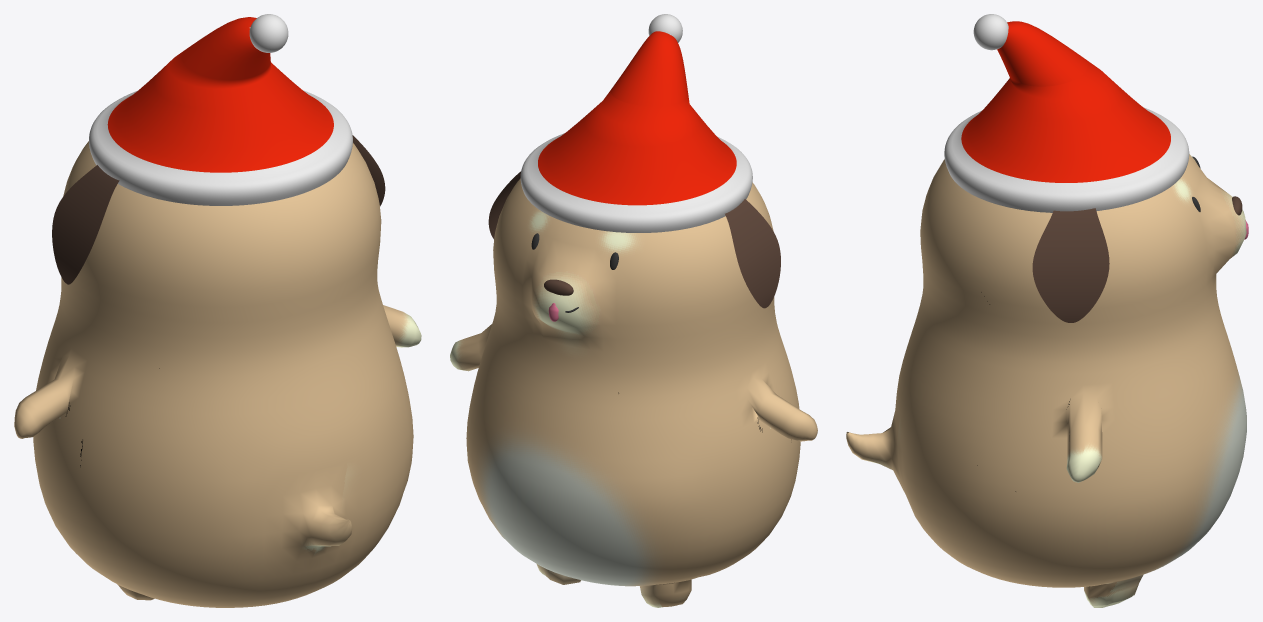
Rendered from dog.gltf.
The picture shows the model from 3 angles, left to right: view 1: azimuth 30°, elevation 25°; view 2: azimuth 150°, elevation 25°; view 3: azimuth 270°, elevation 25°; orthographic projection. The views are drawn at different scales.
Parts seen in each view (by area): view 1: Sphere, Circle, Plane.003, Circle.001, Sphere.001, Plane.002; view 2: Sphere, Circle, Circle.001, Plane.003, Sphere.001, Plane.002; view 3: Sphere, Circle, Plane.002, Circle.001, Sphere.001.
Boxes of the visible parts, box(x1,y1,x2,y2) form: Sphere: box(14, 141, 421, 607); Circle: box(89, 48, 352, 205); Plane.003: box(52, 165, 119, 284); Circle.001: box(183, 17, 270, 79); Sphere.001: box(249, 14, 288, 52); Plane.002: box(352, 135, 385, 206); Sphere: box(450, 178, 817, 607); Circle: box(520, 90, 752, 232); Circle.001: box(610, 31, 688, 106); Plane.003: box(725, 199, 780, 308); Sphere.001: box(648, 14, 682, 42); Plane.002: box(488, 171, 520, 239); Sphere: box(846, 154, 1246, 607); Circle: box(944, 58, 1189, 212); Plane.002: box(1032, 208, 1109, 322); Circle.001: box(997, 21, 1087, 86); Sphere.001: box(973, 14, 1008, 50).
Size of the model in its own units: 0.7786 by 1.11 by 0.7145.
6 materials, 1 textured.
